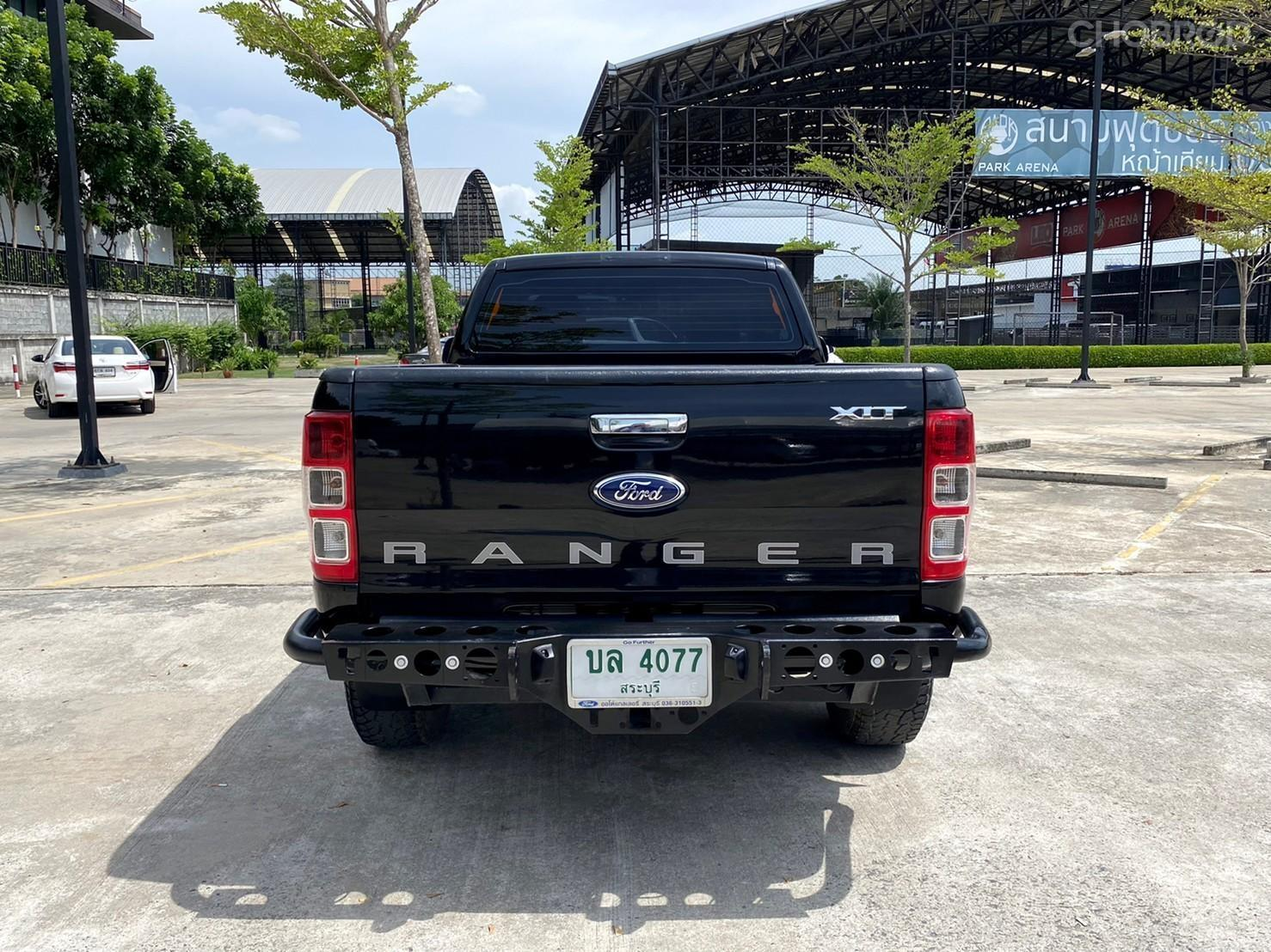license-plate: (560, 634, 717, 713)
